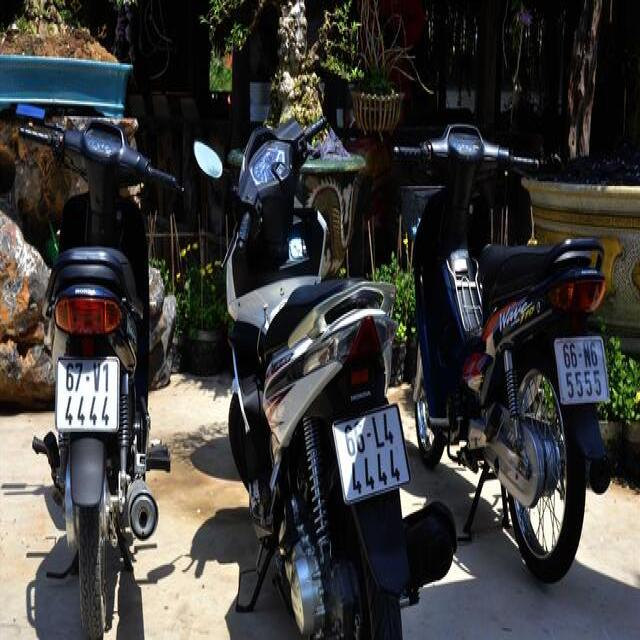motorcycle: (193, 100, 453, 636), (390, 122, 620, 598), (13, 85, 185, 640)
plate: (329, 398, 410, 505), (52, 348, 122, 440), (551, 324, 614, 412)
